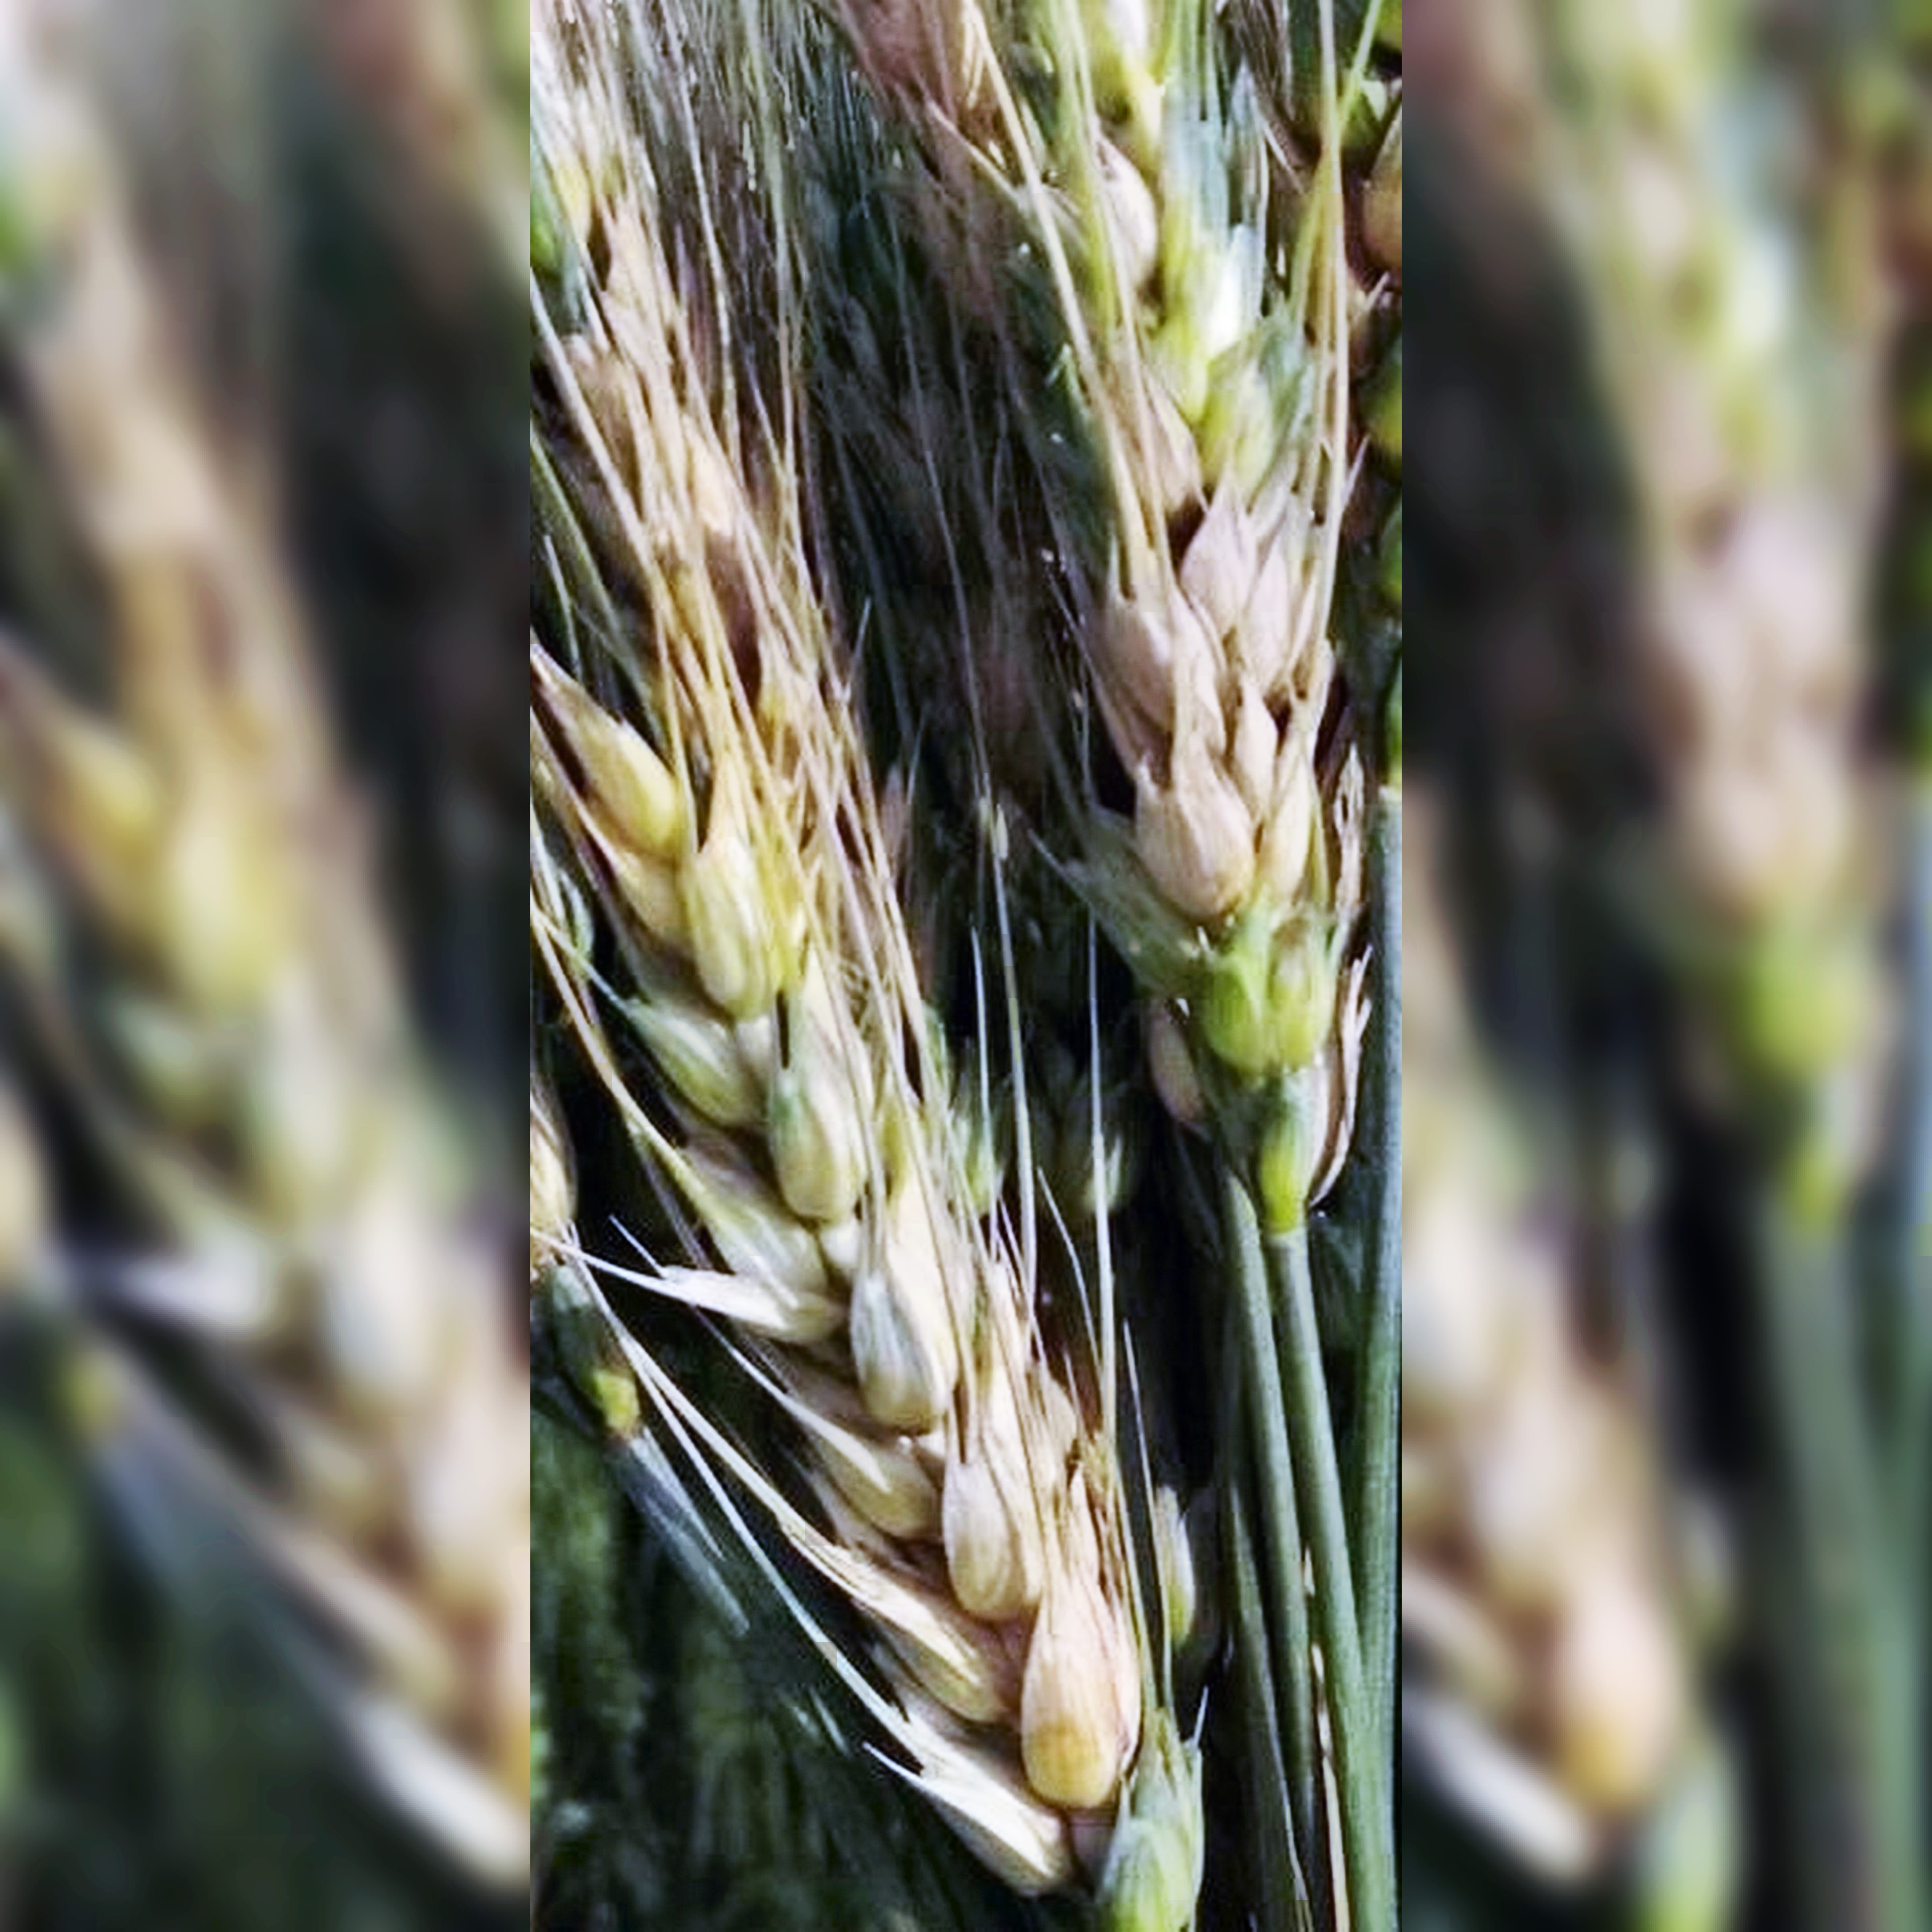Wheat scab: (971, 50, 1382, 1171)
